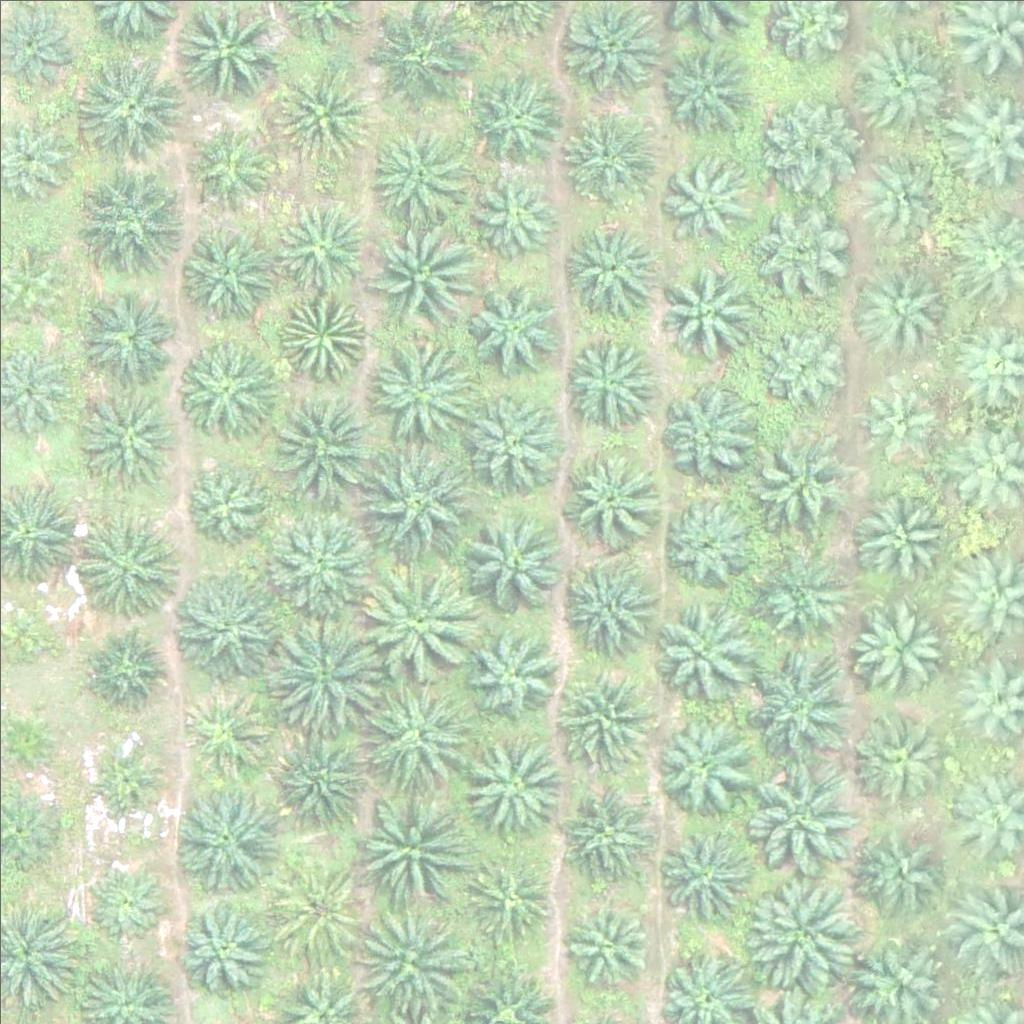Kelapa_Sawit: (364, 675, 477, 789), (355, 903, 468, 1017), (359, 4, 472, 117), (359, 329, 472, 442), (360, 445, 473, 558), (747, 876, 860, 989), (260, 507, 372, 621), (354, 800, 466, 914), (747, 649, 859, 762), (361, 115, 473, 228), (366, 225, 478, 338), (363, 562, 475, 675), (273, 614, 385, 727), (268, 393, 380, 506), (170, 573, 282, 686), (79, 162, 191, 275), (78, 48, 190, 161), (171, 783, 283, 896), (741, 760, 853, 873), (851, 33, 951, 134), (850, 482, 950, 583), (848, 601, 948, 702), (852, 710, 952, 811), (753, 549, 853, 650), (750, 438, 850, 539), (751, 200, 851, 301), (753, 96, 853, 197), (656, 715, 756, 816), (650, 261, 750, 362), (657, 146, 757, 247), (653, 37, 753, 138), (560, 218, 660, 319), (558, 447, 658, 548), (557, 671, 657, 772), (460, 620, 560, 721), (462, 510, 562, 611), (467, 274, 567, 375), (464, 62, 564, 163), (274, 63, 374, 164), (175, 219, 275, 320), (176, 343, 276, 444), (74, 379, 174, 480), (76, 288, 176, 389), (174, 896, 274, 997), (555, 783, 655, 884), (658, 824, 758, 925), (651, 597, 751, 697), (660, 380, 760, 480), (552, 108, 652, 208), (557, 332, 657, 432), (550, 561, 650, 661), (466, 730, 566, 830), (463, 393, 563, 493), (270, 726, 370, 826), (77, 518, 177, 618), (265, 860, 365, 960), (853, 269, 941, 357), (758, 319, 846, 407), (275, 206, 363, 294), (181, 131, 269, 219), (83, 855, 171, 943), (467, 857, 555, 945), (565, 895, 653, 983), (857, 828, 945, 916), (860, 375, 947, 464), (181, 690, 268, 778), (859, 148, 946, 236), (664, 498, 751, 586), (470, 173, 557, 261), (278, 298, 365, 386), (177, 456, 264, 544), (82, 626, 169, 714), (84, 733, 159, 808)
